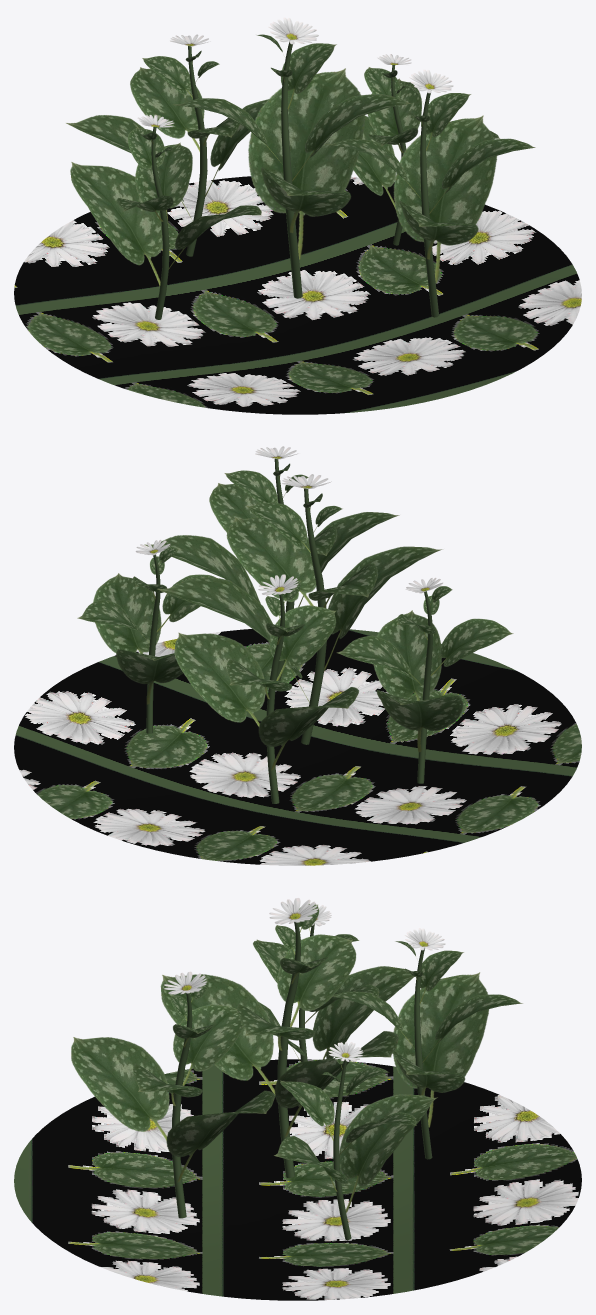
The model's file is flowering_plant_free.glb.
3 views of the same model, one above another, from view 1: azimuth 30°, elevation 25°; view 2: azimuth 150°, elevation 25°; view 3: azimuth 270°, elevation 25° (orthographic).
Parts seen in each view (by area): view 1: EcoSuelo, Plant_Cluster_Plant_2_0; view 2: EcoSuelo, Plant_Cluster_Plant_2_0; view 3: EcoSuelo, Plant_Cluster_Plant_2_0.
Part boxes in pixels (x1,y1,x2,y2): EcoSuelo: (14,176,581,414); Plant_Cluster_Plant_2_0: (66,17,535,319); EcoSuelo: (14,629,581,865); Plant_Cluster_Plant_2_0: (77,446,513,803); EcoSuelo: (14,1059,581,1300); Plant_Cluster_Plant_2_0: (71,898,522,1240).
Size of the model in its own units: 0.9833 by 0.5686 by 0.9833.
Materials: 2 (2 with a texture image).
